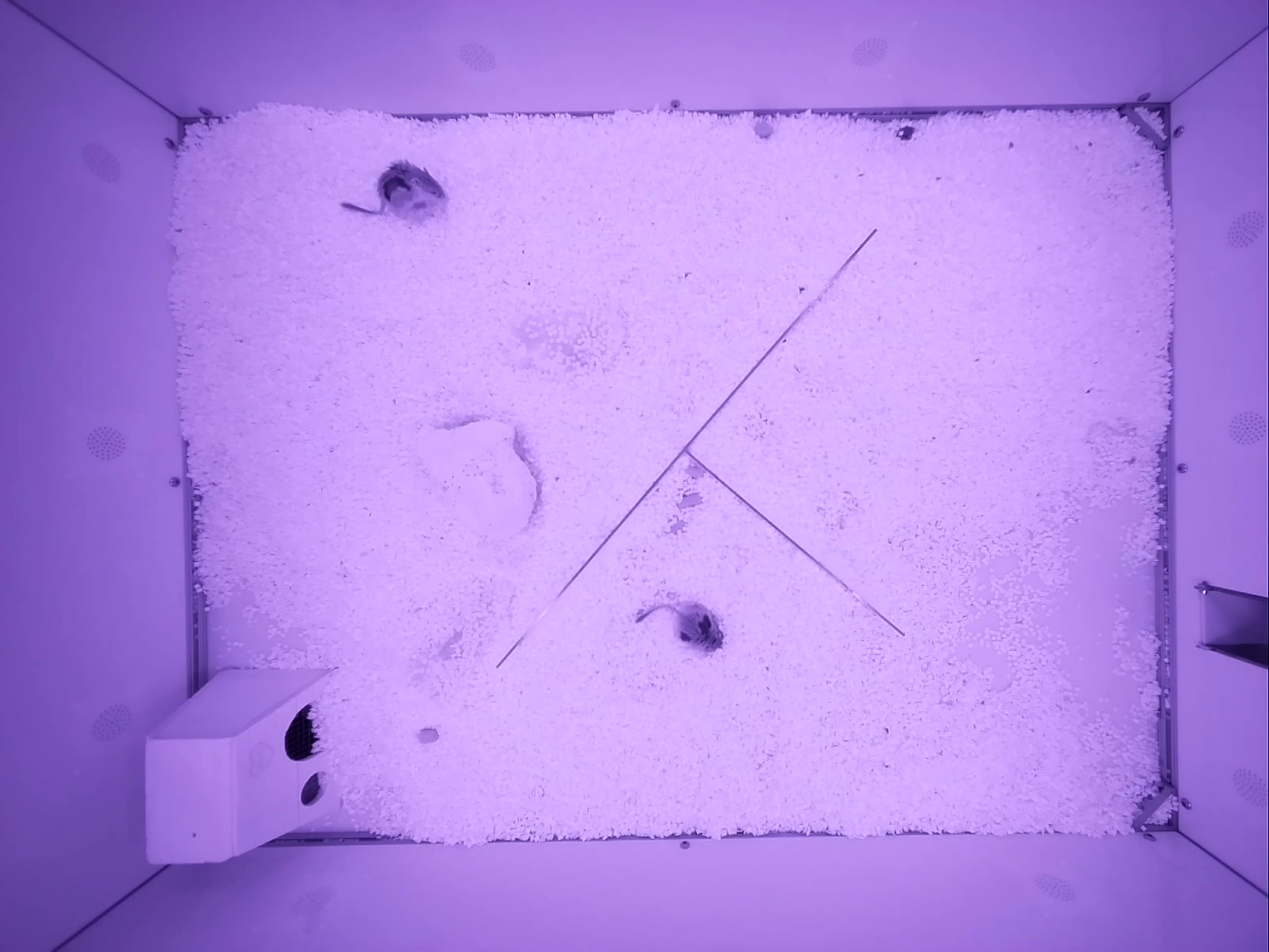adult_back: (342, 161, 447, 219), (634, 601, 723, 651)
